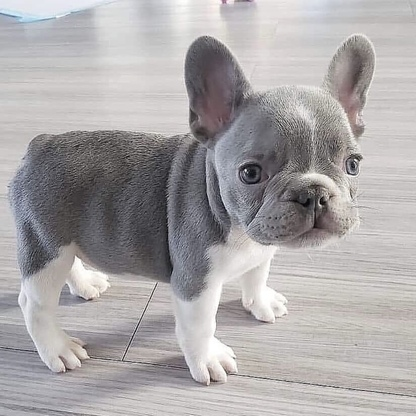bulldog: (15, 33, 379, 390)
